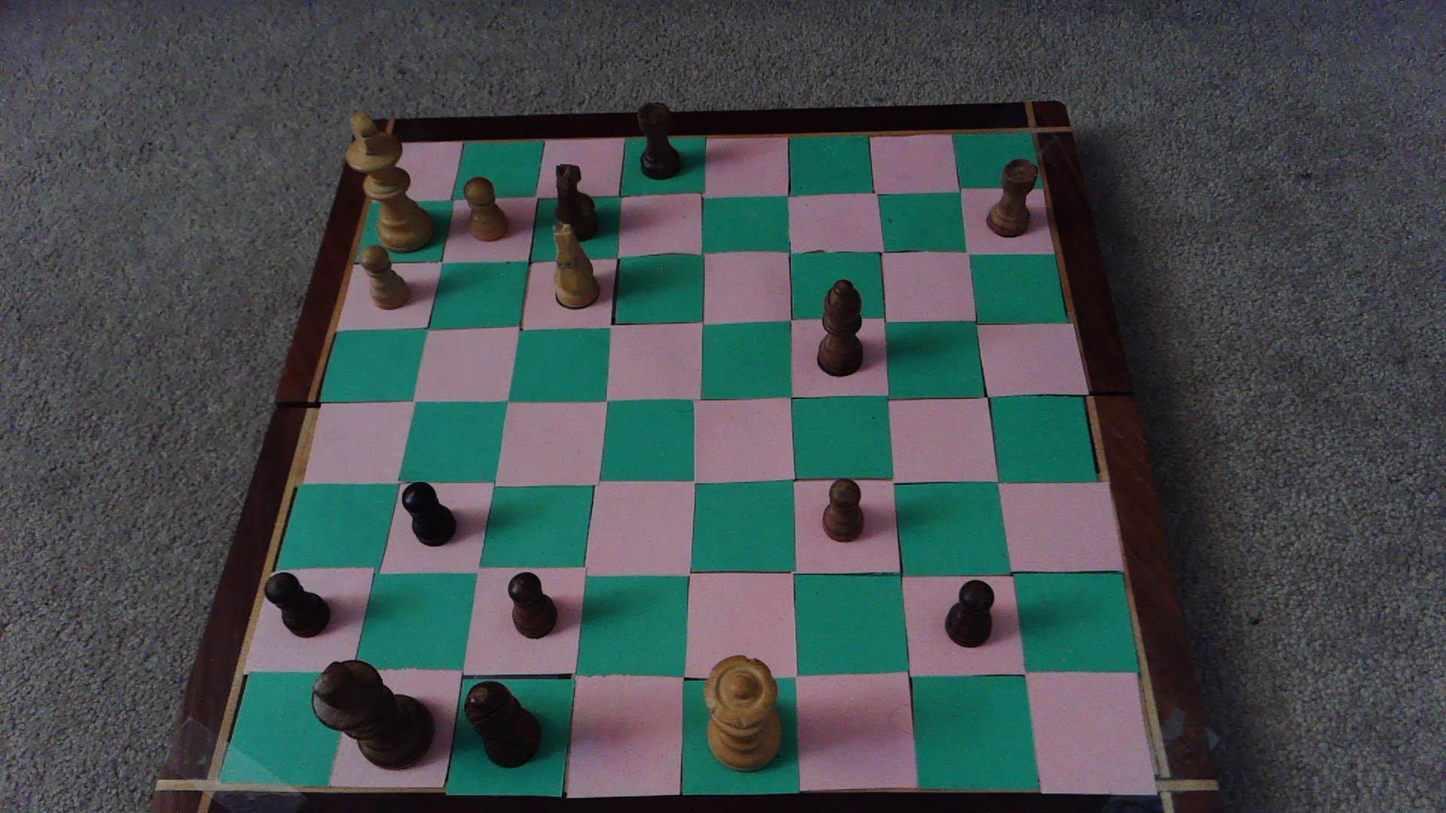dark_piece: (313, 660, 433, 769), (465, 681, 540, 767), (818, 279, 862, 375), (265, 573, 329, 637), (988, 159, 1037, 236), (553, 163, 598, 240), (402, 482, 456, 546), (508, 572, 557, 638), (637, 102, 679, 178), (946, 580, 993, 647), (822, 479, 863, 541)
white_piece: (346, 111, 432, 251), (704, 655, 780, 770), (551, 223, 601, 310), (359, 246, 410, 310), (464, 176, 508, 240)
